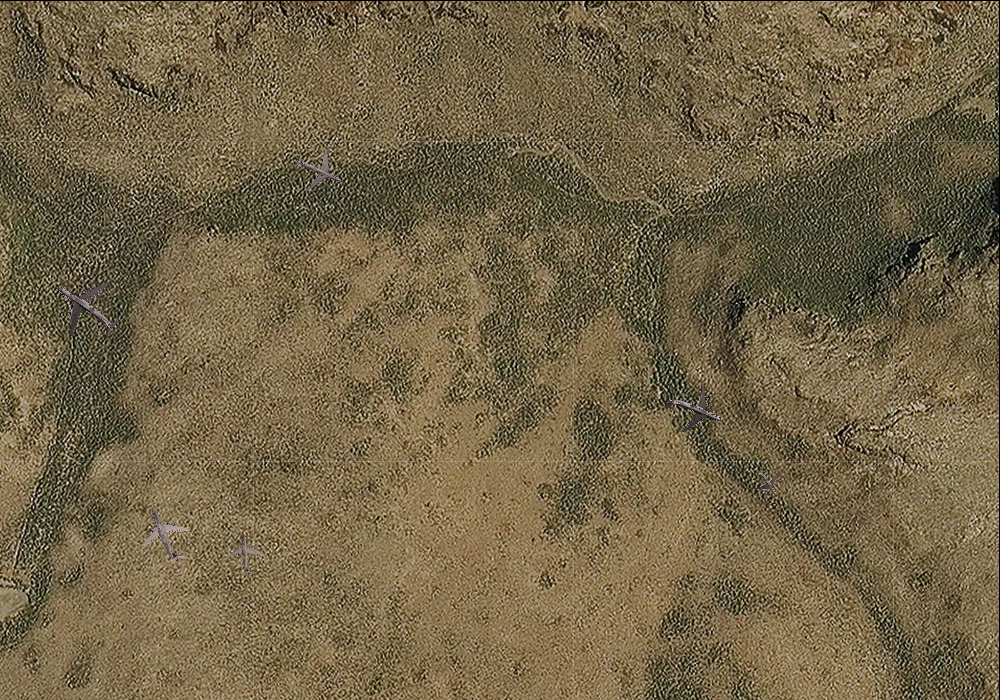plane: (36, 260, 134, 357), (128, 497, 202, 573), (657, 373, 733, 447), (285, 138, 351, 202), (224, 532, 266, 577), (745, 461, 788, 504)
